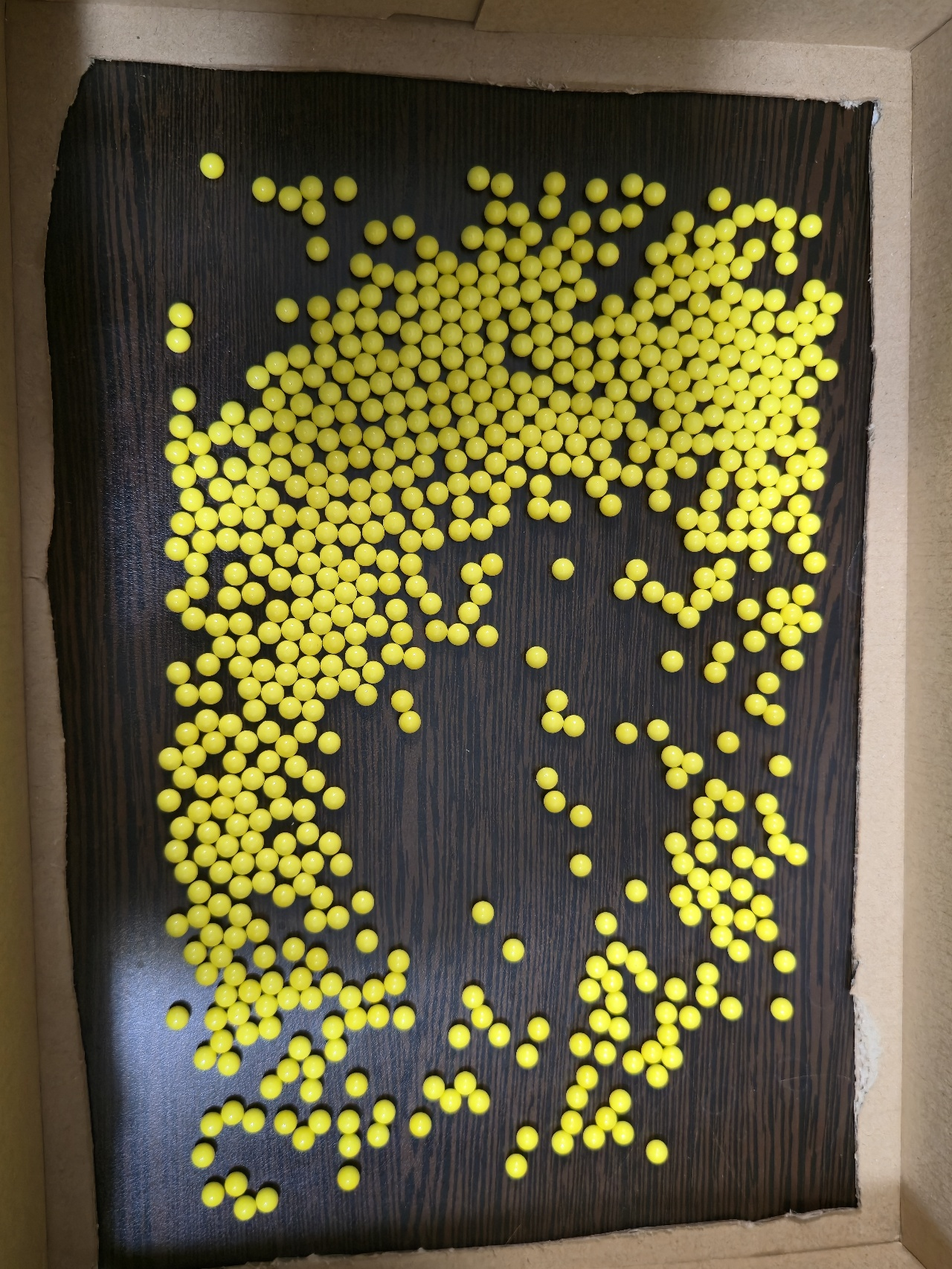yellow_bead: (774, 839, 803, 860), (185, 493, 199, 506), (245, 537, 258, 550), (214, 483, 227, 496), (178, 470, 191, 483), (238, 429, 251, 442), (175, 420, 188, 433), (226, 407, 239, 420), (174, 309, 187, 322), (521, 1049, 533, 1063), (294, 1042, 306, 1056), (170, 543, 184, 555), (314, 1116, 326, 1129), (428, 1082, 440, 1095), (599, 1047, 611, 1060), (241, 1028, 253, 1041), (327, 1021, 339, 1034), (398, 1012, 410, 1025), (684, 1011, 696, 1024), (670, 983, 682, 996), (629, 956, 642, 968), (611, 947, 623, 960), (332, 911, 344, 924), (298, 804, 310, 817), (163, 794, 176, 806), (247, 773, 260, 785), (178, 771, 191, 783), (188, 750, 201, 762), (240, 736, 253, 748), (266, 687, 279, 699), (242, 640, 255, 652), (223, 592, 236, 604), (190, 558, 203, 570), (222, 533, 234, 546), (248, 512, 261, 524), (224, 509, 237, 521), (238, 489, 250, 502), (251, 471, 264, 483), (798, 306, 811, 318), (511, 1159, 522, 1173), (454, 1030, 465, 1044), (326, 978, 337, 992), (308, 1061, 320, 1073), (233, 1009, 245, 1021), (776, 1003, 788, 1015), (701, 990, 713, 1002), (228, 968, 240, 980), (702, 968, 714, 980), (779, 956, 791, 968), (393, 955, 405, 967), (733, 945, 745, 957), (361, 935, 373, 947), (762, 925, 774, 937), (309, 915, 321, 927), (234, 909, 246, 921), (477, 907, 489, 919), (316, 891, 328, 903), (675, 890, 687, 902), (715, 874, 727, 886), (215, 866, 227, 878), (181, 866, 193, 878), (335, 858, 347, 870), (261, 853, 273, 865), (170, 845, 182, 857), (222, 840, 234, 852), (275, 803, 287, 815), (240, 797, 252, 809), (328, 792, 340, 804), (263, 726, 275, 738), (307, 704, 319, 716), (280, 669, 292, 681), (367, 666, 379, 678), (282, 646, 294, 658), (287, 623, 299, 635), (210, 619, 222, 631), (271, 605, 283, 617), (390, 604, 402, 616), (297, 579, 309, 591), (230, 568, 242, 580), (325, 550, 337, 562), (268, 530, 280, 542), (344, 529, 356, 541), (367, 526, 379, 538), (375, 498, 387, 510), (262, 492, 274, 504), (354, 483, 366, 495), (331, 479, 343, 491), (274, 463, 286, 475), (254, 448, 266, 460), (300, 425, 312, 437), (268, 393, 280, 405), (820, 364, 832, 376), (271, 358, 283, 370), (777, 235, 789, 247), (805, 220, 817, 232), (652, 1146, 663, 1159), (522, 1132, 533, 1145), (351, 1079, 362, 1092), (460, 1077, 471, 1090), (628, 1056, 639, 1069), (494, 1029, 505, 1042), (614, 1022, 625, 1035), (594, 1015, 605, 1028), (726, 1002, 737, 1015), (584, 984, 595, 997), (508, 944, 519, 957), (234, 882, 247, 893), (164, 753, 177, 764), (248, 705, 261, 716), (243, 682, 256, 693), (218, 641, 231, 652), (263, 627, 276, 638), (234, 618, 247, 629), (197, 536, 210, 547), (298, 535, 311, 546), (200, 513, 213, 524), (807, 474, 820, 485), (751, 534, 765, 544), (588, 1131, 599, 1143), (379, 1106, 390, 1118), (571, 1091, 583, 1102), (305, 1087, 317, 1098), (266, 1082, 277, 1094), (533, 1023, 544, 1035), (477, 1011, 488, 1023), (344, 992, 356, 1003), (468, 991, 479, 1003), (266, 977, 277, 989), (641, 975, 652, 987), (591, 961, 602, 973), (259, 951, 270, 963), (289, 943, 300, 955), (716, 909, 728, 920), (756, 900, 768, 911), (213, 899, 225, 910), (703, 892, 715, 903), (194, 886, 205, 898), (631, 885, 642, 897), (736, 884, 747, 896), (258, 877, 270, 888), (758, 862, 770, 873), (237, 858, 249, 869), (307, 857, 318, 869), (701, 846, 712, 858), (279, 838, 291, 849), (302, 828, 314, 839), (176, 822, 188, 833), (254, 814, 266, 825), (269, 781, 280, 793), (308, 775, 319, 787), (541, 773, 553, 784), (263, 756, 274, 768), (225, 719, 237, 730), (205, 687, 217, 698), (298, 684, 310, 695), (322, 682, 334, 693), (173, 667, 185, 678), (258, 664, 270, 675), (303, 661, 315, 672), (234, 661, 246, 672), (326, 660, 338, 671), (350, 651, 362, 662), (371, 620, 383, 631), (315, 618, 327, 629), (805, 617, 817, 628), (336, 610, 348, 621), (318, 596, 330, 607), (475, 588, 486, 600), (340, 588, 352, 599), (361, 579, 373, 590), (321, 573, 333, 584), (809, 557, 821, 568), (382, 555, 393, 567), (321, 527, 332, 539), (803, 519, 815, 530), (176, 518, 187, 530), (388, 517, 400, 528), (303, 513, 315, 524), (353, 507, 365, 518), (764, 492, 776, 503), (312, 492, 324, 503), (432, 487, 443, 499), (291, 481, 303, 492), (453, 478, 464, 490), (231, 463, 242, 475), (577, 460, 588, 472), (202, 460, 213, 472), (750, 453, 762, 464), (811, 452, 823, 463), (570, 439, 582, 450), (786, 399, 797, 411), (801, 382, 813, 393), (754, 381, 766, 392), (805, 350, 817, 361), (818, 318, 829, 330), (825, 298, 837, 309), (747, 294, 758, 306), (808, 285, 820, 296), (781, 257, 792, 269), (739, 210, 750, 222), (284, 193, 296, 204), (616, 1095, 626, 1108), (228, 756, 241, 766), (187, 613, 200, 623), (296, 603, 309, 613), (777, 517, 790, 527), (557, 1137, 568, 1148), (344, 1117, 355, 1128), (661, 1007, 672, 1018), (685, 910, 696, 921), (358, 896, 369, 907), (693, 873, 704, 884), (678, 858, 689, 869), (199, 850, 210, 861), (670, 838, 681, 849), (324, 838, 335, 849), (721, 824, 732, 835), (193, 806, 204, 817), (324, 737, 335, 748), (751, 699, 762, 710), (361, 689, 372, 700), (344, 674, 355, 685), (387, 649, 398, 660), (718, 647, 729, 658), (453, 629, 464, 640), (767, 617, 778, 628), (683, 612, 694, 623), (466, 568, 477, 579), (631, 565, 642, 576), (360, 549, 371, 560), (794, 538, 805, 549), (428, 533, 439, 544), (682, 513, 693, 524), (755, 512, 766, 523), (331, 507, 342, 518), (794, 500, 805, 511), (743, 495, 754, 506), (475, 476, 486, 487), (376, 475, 387, 486), (398, 471, 409, 482), (763, 470, 774, 481), (626, 470, 637, 481), (605, 463, 616, 474), (792, 460, 803, 471), (725, 455, 736, 466), (296, 449, 307, 460), (507, 443, 518, 454), (399, 443, 410, 454), (275, 438, 286, 449), (547, 435, 558, 446), (718, 434, 729, 445), (632, 424, 643, 435), (803, 412, 814, 423), (765, 400, 776, 411), (296, 399, 307, 410), (739, 396, 750, 407), (698, 385, 709, 396), (766, 361, 777, 372), (293, 351, 304, 362), (758, 316, 769, 327), (769, 295, 780, 306), (727, 287, 738, 298), (446, 1096, 456, 1108), (474, 1096, 484, 1108), (653, 1070, 663, 1082), (668, 1052, 678, 1064), (329, 1046, 341, 1056), (264, 1024, 276, 1034), (283, 993, 293, 1005), (220, 991, 232, 1001), (201, 968, 211, 980), (217, 951, 227, 963), (190, 947, 200, 959), (172, 919, 182, 931), (601, 918, 611, 930), (278, 890, 290, 900), (768, 819, 780, 829), (761, 799, 773, 809), (290, 761, 302, 771), (201, 715, 213, 725), (358, 602, 370, 612), (425, 598, 437, 608), (619, 584, 631, 594), (280, 550, 292, 560), (732, 536, 744, 546), (689, 536, 701, 546), (417, 513, 429, 523), (408, 492, 418, 504), (782, 480, 794, 490), (419, 460, 429, 472), (452, 454, 462, 466), (740, 434, 750, 446), (799, 434, 811, 444), (775, 419, 787, 429), (508, 415, 518, 427), (774, 381, 786, 391), (406, 350, 416, 362), (781, 342, 791, 354), (427, 315, 437, 327), (361, 314, 373, 324), (619, 1127, 628, 1140), (171, 594, 184, 603), (247, 588, 260, 597), (191, 582, 204, 591), (255, 562, 268, 571), (176, 334, 185, 347), (207, 1190, 217, 1201), (216, 1038, 227, 1048), (260, 1002, 271, 1012), (611, 998, 622, 1008), (390, 980, 401, 990), (297, 974, 307, 985), (716, 932, 727, 942), (207, 929, 217, 940), (193, 911, 203, 922), (576, 860, 586, 871), (739, 852, 749, 863), (697, 824, 708, 834), (699, 802, 710, 812), (711, 784, 721, 795), (225, 780, 236, 790), (775, 761, 786, 771), (687, 758, 698, 768), (668, 751, 678, 762), (723, 737, 734, 747), (653, 725, 663, 736), (547, 717, 558, 727), (397, 695, 408, 705), (552, 695, 562, 706), (763, 678, 774, 688), (667, 656, 678, 666), (787, 655, 798, 665), (531, 652, 542, 662), (749, 636, 760, 646), (464, 608, 475, 618), (743, 604, 754, 614), (668, 597, 678, 608), (696, 595, 707, 605), (773, 593, 784, 603), (648, 587, 659, 597), (717, 585, 727, 596), (411, 581, 422, 591), (344, 565, 355, 575), (719, 564, 730, 574), (558, 564, 568, 575), (405, 536, 416, 546), (494, 510, 504, 521), (279, 510, 290, 520), (655, 495, 665, 506), (705, 495, 716, 505), (592, 481, 602, 492), (713, 473, 723, 484), (652, 473, 662, 484), (511, 471, 521, 482), (311, 468, 322, 478), (556, 458, 566, 469), (491, 458, 501, 469), (332, 456, 343, 466), (662, 453, 672, 464), (379, 453, 390, 463), (595, 444, 606, 454), (472, 443, 482, 454), (422, 437, 432, 448), (676, 437, 686, 448), (323, 434, 333, 445), (761, 434, 771, 445), (585, 421, 596, 431), (391, 421, 402, 431), (729, 415, 740, 425), (709, 411, 719, 422), (390, 397, 400, 408), (555, 396, 565, 407), (325, 388, 335, 399), (399, 373, 409, 384), (309, 370, 319, 381), (714, 369, 724, 380), (425, 365, 435, 376), (693, 363, 703, 374), (746, 356, 756, 367), (321, 350, 331, 361), (345, 341, 356, 351), (428, 340, 438, 351), (761, 339, 771, 350), (518, 339, 528, 350), (407, 327, 417, 338), (719, 247, 730, 257), (721, 225, 731, 236), (742, 914, 751, 926), (284, 864, 296, 873), (202, 826, 214, 835), (181, 689, 193, 698), (274, 574, 286, 583), (218, 427, 227, 439), (256, 414, 268, 423), (525, 399, 534, 411), (181, 393, 190, 405), (469, 338, 478, 350), (550, 796, 560, 806), (622, 728, 632, 738), (569, 721, 579, 731), (405, 716, 415, 726), (711, 667, 721, 677), (700, 573, 710, 583), (406, 559, 416, 569), (712, 537, 722, 547), (477, 524, 487, 534), (704, 517, 714, 527), (733, 514, 743, 524), (555, 506, 565, 516), (496, 487, 506, 497), (536, 481, 546, 491), (741, 473, 751, 483), (532, 452, 542, 462), (698, 439, 708, 449), (526, 430, 536, 440), (464, 421, 474, 431), (563, 418, 573, 428), (541, 414, 551, 424), (481, 408, 491, 418), (412, 393, 422, 403), (354, 385, 364, 395), (376, 378, 386, 388), (448, 352, 458, 362), (604, 344, 614, 354), (447, 329, 457, 339), (642, 328, 652, 338), (282, 306, 292, 316), (714, 270, 724, 280), (423, 269, 433, 279), (239, 1206, 250, 1215), (231, 1180, 242, 1189), (350, 1017, 361, 1026), (252, 924, 263, 933), (281, 740, 292, 749), (409, 652, 420, 661), (431, 626, 442, 635), (487, 559, 498, 568), (608, 423, 617, 434), (279, 415, 290, 424), (490, 348, 499, 359), (338, 318, 349, 327), (404, 300, 413, 311), (676, 284, 685, 295), (547, 274, 556, 285), (605, 249, 614, 260), (310, 206, 319, 217), (369, 985, 377, 997), (229, 932, 241, 940), (298, 882, 310, 890), (208, 737, 220, 745), (300, 730, 312, 738), (284, 705, 296, 713), (202, 658, 214, 666), (303, 561, 315, 569), (727, 350, 735, 362), (706, 344, 714, 356), (257, 371, 264, 384), (312, 954, 322, 963), (672, 774, 682, 783), (482, 631, 492, 640), (454, 524, 464, 533), (653, 433, 662, 443), (414, 416, 423, 426), (369, 405, 378, 415), (599, 403, 608, 413), (721, 391, 730, 401), (637, 385, 646, 395), (612, 385, 622, 394), (539, 381, 548, 391), (472, 363, 481, 373), (741, 334, 750, 344), (494, 325, 503, 335), (386, 317, 395, 327), (558, 316, 567, 326), (678, 315, 687, 325), (736, 312, 745, 322), (716, 305, 725, 315), (448, 305, 457, 315), (344, 295, 353, 305), (506, 292, 515, 302), (367, 291, 376, 301), (527, 285, 536, 295), (581, 284, 591, 293), (402, 277, 411, 287), (701, 231, 710, 241), (608, 215, 617, 225), (715, 193, 725, 202), (650, 189, 660, 198), (582, 1076, 593, 1084), (609, 975, 617, 986), (217, 802, 228, 810), (350, 632, 361, 640), (789, 608, 797, 619), (690, 417, 698, 428), (622, 405, 630, 416), (647, 350, 655, 361), (426, 292, 434, 303), (570, 1116, 577, 1128), (248, 1115, 260, 1122), (231, 823, 243, 830), (800, 590, 809, 599), (607, 500, 616, 509), (683, 463, 692, 472), (437, 411, 446, 420), (320, 411, 329, 420), (458, 399, 467, 408), (580, 376, 589, 385), (665, 332, 674, 341), (660, 300, 669, 309), (567, 266, 576, 275), (486, 257, 495, 266), (672, 238, 681, 247), (680, 217, 689, 226), (346, 1173, 354, 1183), (283, 1068, 291, 1078), (201, 780, 211, 788), (181, 728, 191, 736), (305, 638, 315, 646), (683, 397, 691, 407), (661, 393, 669, 403), (518, 378, 526, 388), (561, 367, 569, 377), (362, 359, 370, 369), (669, 354, 677, 364), (540, 353, 548, 363), (686, 340, 694, 350), (370, 337, 378, 347), (623, 319, 631, 329), (640, 305, 648, 315), (506, 269, 514, 279), (654, 248, 662, 258), (246, 841, 257, 848), (329, 637, 340, 644), (396, 628, 407, 635), (656, 371, 663, 382), (629, 364, 636, 375), (581, 327, 588, 338), (470, 315, 477, 326), (175, 1013, 183, 1022), (771, 710, 779, 719), (785, 634, 797, 640), (460, 505, 469, 513), (637, 447, 645, 456), (446, 434, 454, 443), (668, 415, 676, 424), (700, 323, 708, 332), (539, 306, 547, 315), (562, 294, 570, 303), (643, 283, 651, 292), (701, 254, 709, 263), (470, 233, 478, 242), (515, 210, 524, 218), (307, 184, 316, 192), (650, 1047, 657, 1057), (575, 1045, 585, 1052), (210, 1018, 220, 1025), (732, 796, 739, 806), (372, 432, 379, 442), (468, 292, 475, 302), (193, 437, 204, 443), (286, 376, 297, 382), (562, 342, 568, 353), (309, 992, 317, 1000), (359, 261, 367, 269), (315, 245, 323, 253), (594, 185, 602, 193), (226, 1060, 235, 1067), (358, 451, 365, 460), (578, 399, 587, 406), (628, 341, 635, 350), (540, 330, 547, 339), (488, 280, 495, 289), (381, 271, 388, 280), (576, 815, 586, 821), (495, 429, 501, 439), (530, 262, 536, 272), (264, 1195, 272, 1202), (419, 1122, 426, 1130), (666, 1033, 674, 1040), (247, 989, 254, 997), (344, 408, 351, 416), (602, 366, 609, 374), (602, 322, 609, 330), (562, 234, 569, 242), (477, 174, 484, 182), (498, 371, 504, 380), (520, 313, 526, 322), (698, 276, 704, 285), (663, 271, 669, 280), (699, 299, 704, 309), (401, 224, 408, 231), (578, 218, 585, 225), (343, 186, 350, 193), (630, 181, 637, 188), (173, 446, 181, 452), (480, 386, 486, 394), (342, 367, 348, 375), (724, 329, 730, 337), (321, 327, 327, 335), (495, 234, 501, 242), (530, 229, 536, 237), (375, 229, 381, 237), (755, 556, 766, 560), (502, 396, 509, 402), (437, 389, 443, 396), (457, 377, 463, 384), (387, 357, 393, 364), (489, 304, 495, 311), (317, 304, 324, 310), (548, 202, 555, 208), (750, 415, 760, 419), (680, 376, 685, 384), (736, 374, 744, 379), (613, 301, 618, 309), (551, 252, 556, 260), (749, 244, 759, 248), (632, 211, 637, 219), (213, 160, 218, 168), (378, 1010, 384, 1016), (350, 431, 356, 437), (584, 353, 588, 362), (467, 270, 473, 276), (446, 259, 452, 265), (553, 180, 559, 186), (583, 247, 588, 253), (427, 244, 432, 250), (685, 262, 689, 269), (200, 1053, 206, 1057), (387, 582, 395, 585), (538, 507, 544, 511), (792, 363, 798, 367), (803, 329, 811, 332), (266, 187, 269, 195), (503, 181, 507, 187), (206, 1120, 211, 1124), (788, 441, 793, 445), (448, 284, 452, 289), (516, 248, 521, 252), (496, 210, 501, 214), (198, 1151, 203, 1154), (608, 1117, 611, 1122), (302, 1139, 305, 1143), (203, 443, 205, 449), (353, 1143, 356, 1146), (381, 1132, 384, 1135), (780, 441, 783, 444), (788, 364, 791, 367), (782, 317, 785, 320), (736, 263, 739, 266), (788, 213, 791, 216), (210, 171, 214, 173), (533, 507, 536, 509), (761, 213, 763, 216), (768, 205, 771, 207), (208, 159, 213, 160), (344, 1143, 346, 1145), (264, 423, 266, 425), (782, 325, 784, 327), (737, 272, 739, 274), (780, 222, 782, 224), (266, 184, 268, 186), (791, 318, 794, 319), (765, 204, 768, 205), (376, 1131, 378, 1132), (257, 839, 258, 841), (181, 452, 182, 454), (171, 448, 173, 449), (786, 440, 788, 441), (799, 334, 800, 336), (787, 316, 789, 317), (741, 262, 743, 263), (261, 1200, 262, 1201), (227, 1111, 228, 1112), (306, 997, 307, 998), (230, 464, 231, 465), (179, 458, 180, 459), (789, 374, 790, 375), (745, 263, 746, 264), (779, 220, 780, 221), (735, 376, 736, 376), (736, 266, 736, 269), (785, 213, 788, 213), (263, 196, 263, 196), (263, 183, 263, 184)
